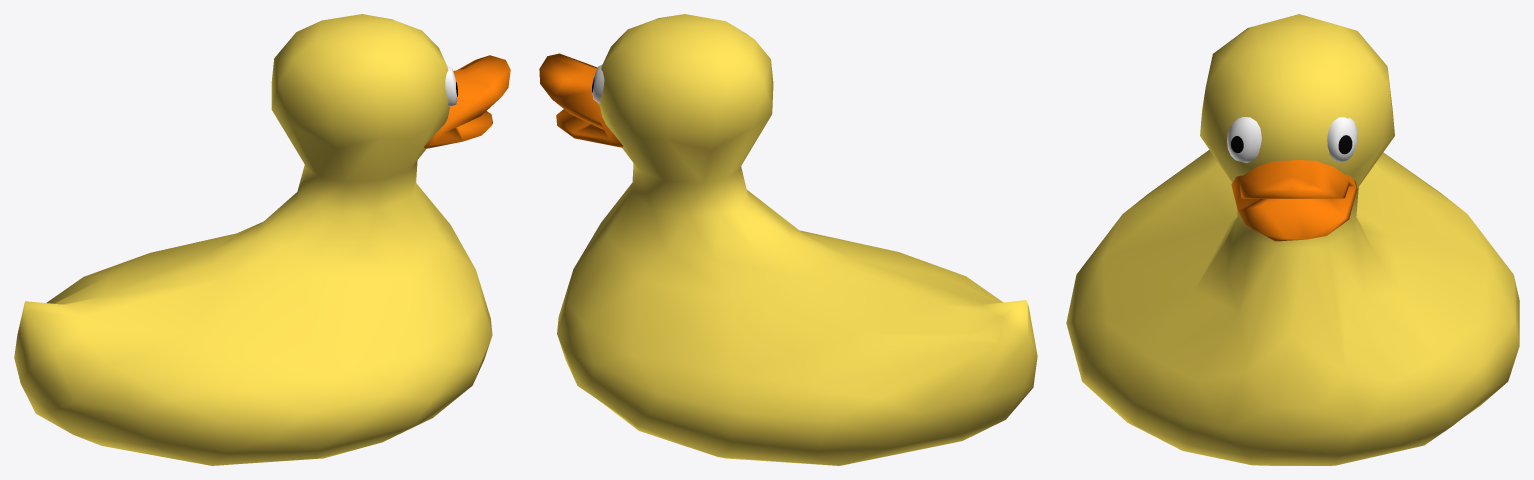
The model's file is duck.fbx.
The picture shows the model from 3 angles, left to right: view 1: azimuth 30°, elevation 25°; view 2: azimuth 150°, elevation 25°; view 3: azimuth 270°, elevation 25°; orthographic projection. The views are drawn at different scales.
Parts seen in each view (by area): view 1: RubberDuck, Beak; view 2: RubberDuck, Beak; view 3: RubberDuck, Beak, LeftEye.001, LeftEye.
Boxes of the visible parts, x1=… form: RubberDuck: x1=14, y1=14, x2=492, y2=465; Beak: x1=424, y1=55, x2=510, y2=148; RubberDuck: x1=557, y1=14, x2=1037, y2=465; Beak: x1=539, y1=53, x2=623, y2=147; RubberDuck: x1=1066, y1=14, x2=1519, y2=465; Beak: x1=1231, y1=159, x2=1357, y2=241; LeftEye.001: x1=1227, y1=117, x2=1261, y2=162; LeftEye: x1=1327, y1=117, x2=1357, y2=162.
Bounding box in the file's own units: 398 × 280 × 280.
